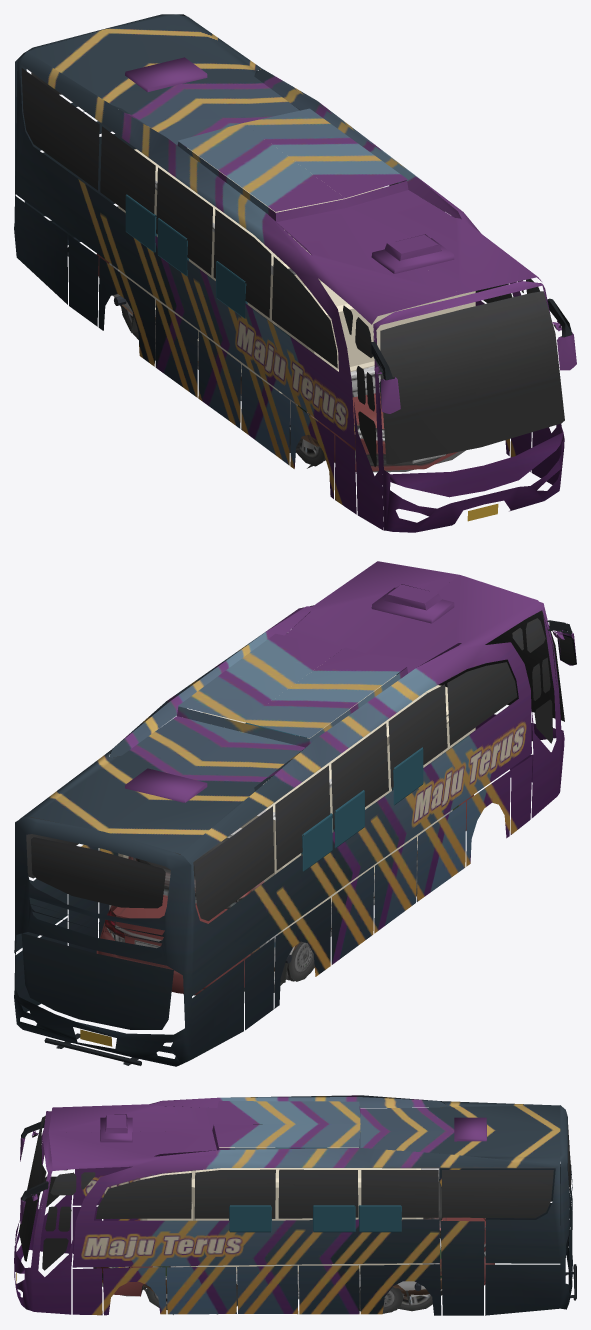
File: arena-traffic-kit-runtime-v2.glb
The picture shows the model from 3 angles, top to bottom: view 1: azimuth 30°, elevation 25°; view 2: azimuth 150°, elevation 25°; view 3: azimuth 270°, elevation 25°; orthographic projection. The views are drawn at different scales.
Parts seen in each view (by area): view 1: ArenaTraffic_Bus, ArenaTraffic_Limousine, ArenaTraffic_RV_Overcab, ArenaTraffic_RV_Cabin, ArenaTraffic_RV_Window_-1_1.42, ArenaTraffic_RV_Window_-1_0.65, ArenaTraffic_RV_Window_-1_-0.75, ArenaTraffic_Van; view 2: ArenaTraffic_Bus, ArenaTraffic_Limousine, ArenaTraffic_RV_Cabin, ArenaTraffic_RV_Window_-1_1.42, ArenaTraffic_Pickup, ArenaTraffic_RV_Window_-1_-0.75, ArenaTraffic_RV_Window_-1_0.65, ArenaTraffic_Van; view 3: ArenaTraffic_Bus, ArenaTraffic_RV_Cabin, ArenaTraffic_Limousine, ArenaTraffic_RV_Window_1_1.42, ArenaTraffic_RV_Window_1_0.65, ArenaTraffic_RV_Window_1_-0.75, ArenaTraffic_Pickup, ArenaTraffic_RV, ArenaTraffic_Van, ArenaTraffic_RV_Overcab.
Boxes of the visible parts, x1,y1,x2,y2 form: ArenaTraffic_Bus: [14, 14, 576, 532]; ArenaTraffic_Limousine: [96, 253, 465, 472]; ArenaTraffic_RV_Overcab: [276, 282, 475, 371]; ArenaTraffic_RV_Cabin: [118, 148, 383, 393]; ArenaTraffic_RV_Window_-1_1.42: [125, 194, 156, 252]; ArenaTraffic_RV_Window_-1_0.65: [157, 218, 188, 275]; ArenaTraffic_RV_Window_-1_-0.75: [216, 261, 247, 318]; ArenaTraffic_Van: [127, 180, 380, 452]; ArenaTraffic_Bus: [14, 561, 576, 1066]; ArenaTraffic_Limousine: [96, 794, 473, 995]; ArenaTraffic_RV_Cabin: [118, 682, 443, 934]; ArenaTraffic_RV_Window_-1_1.42: [301, 813, 332, 871]; ArenaTraffic_Pickup: [109, 809, 452, 982]; ArenaTraffic_RV_Window_-1_-0.75: [392, 747, 423, 805]; ArenaTraffic_RV_Window_-1_0.65: [333, 790, 364, 847]; ArenaTraffic_Van: [128, 778, 374, 981]; ArenaTraffic_Bus: [14, 1095, 576, 1315]; ArenaTraffic_RV_Cabin: [189, 1147, 423, 1274]; ArenaTraffic_Limousine: [93, 1217, 494, 1314]; ArenaTraffic_RV_Window_1_1.42: [358, 1205, 401, 1232]; ArenaTraffic_RV_Window_1_0.65: [312, 1205, 355, 1232]; ArenaTraffic_RV_Window_1_-0.75: [229, 1205, 271, 1232]; ArenaTraffic_Pickup: [165, 1263, 439, 1314]; ArenaTraffic_RV: [143, 1246, 441, 1311]; ArenaTraffic_Van: [166, 1168, 443, 1299]; ArenaTraffic_RV_Overcab: [140, 1171, 194, 1220].
Bounding box in the file's own units: 2.7 × 3.15 × 9.4.
19 materials, 14 textured.
